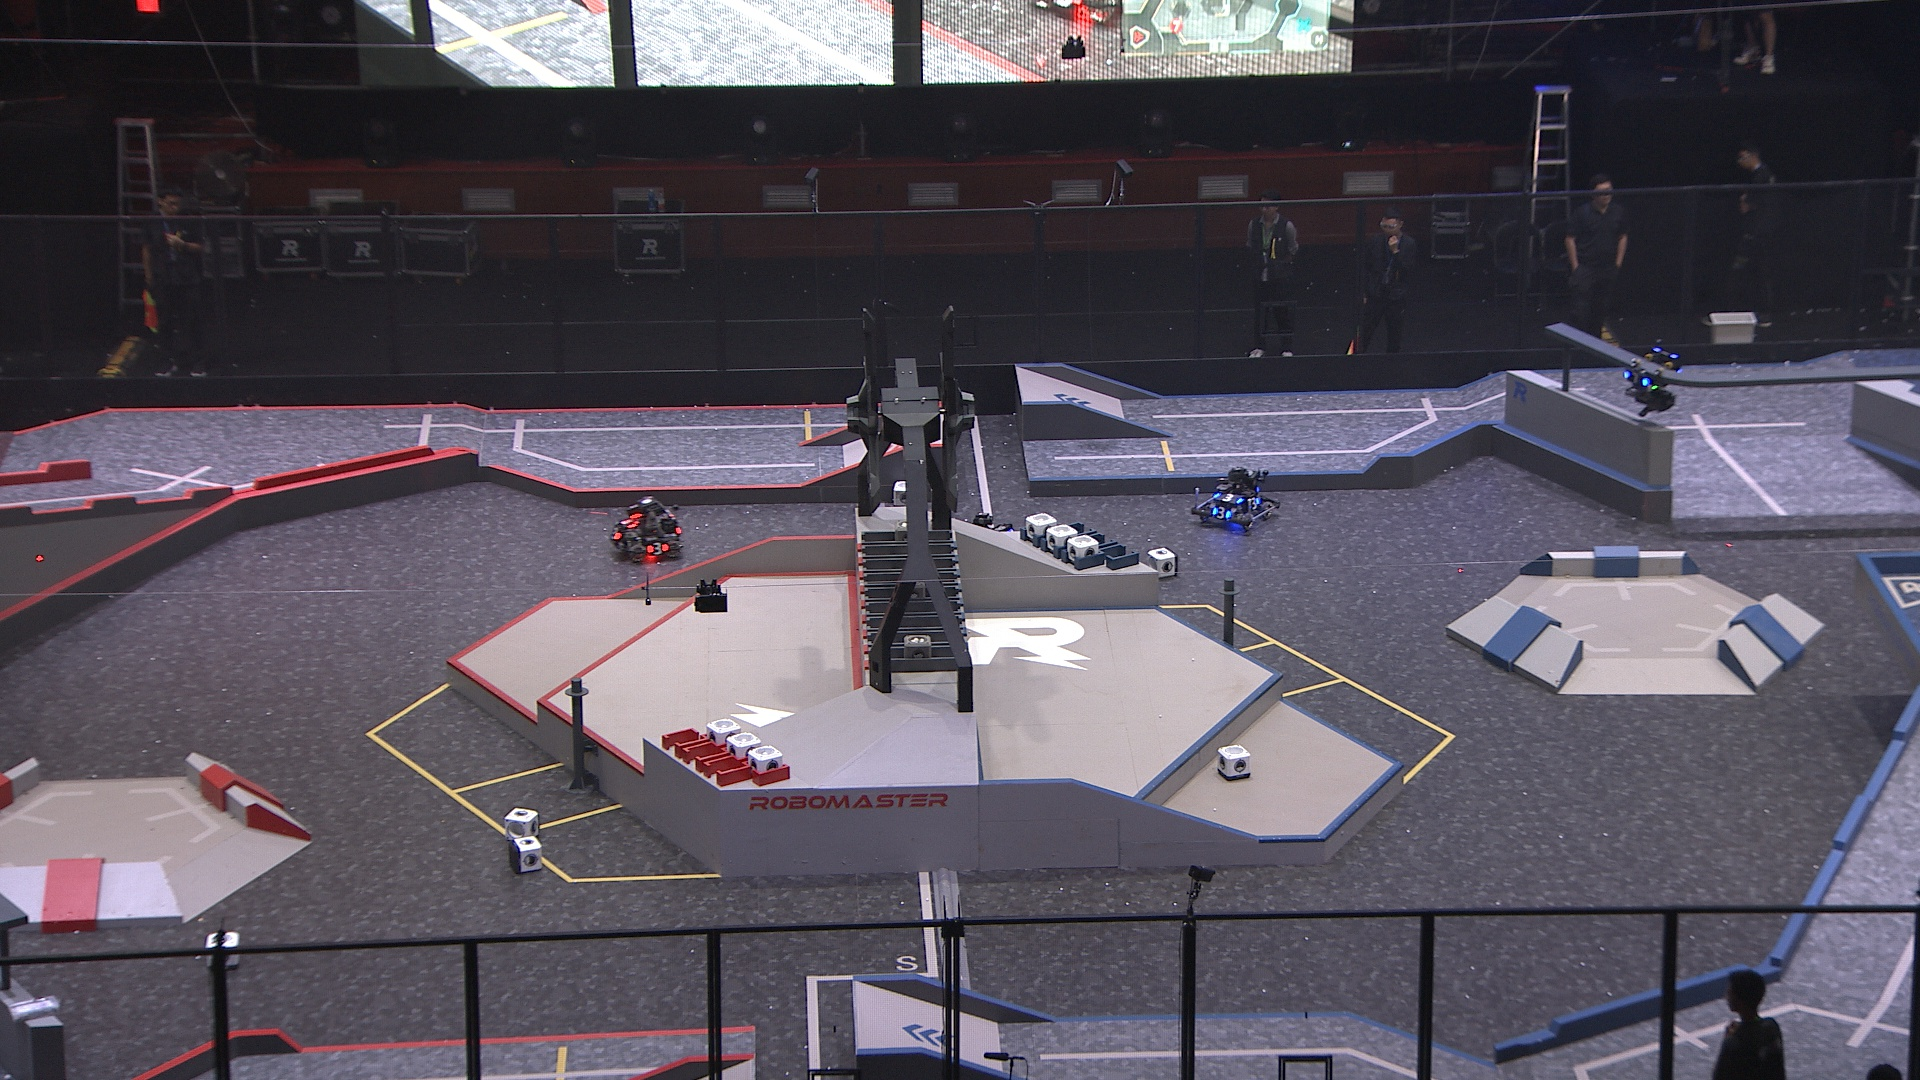armor: (1621, 365, 1652, 390), (615, 513, 640, 531), (644, 538, 669, 556), (1212, 491, 1242, 504), (609, 524, 626, 545), (1244, 495, 1263, 512), (1209, 505, 1232, 520)
car: (1191, 465, 1278, 531), (604, 495, 684, 564), (1280, 465, 1294, 472)
watcher: (1618, 338, 1683, 418)
